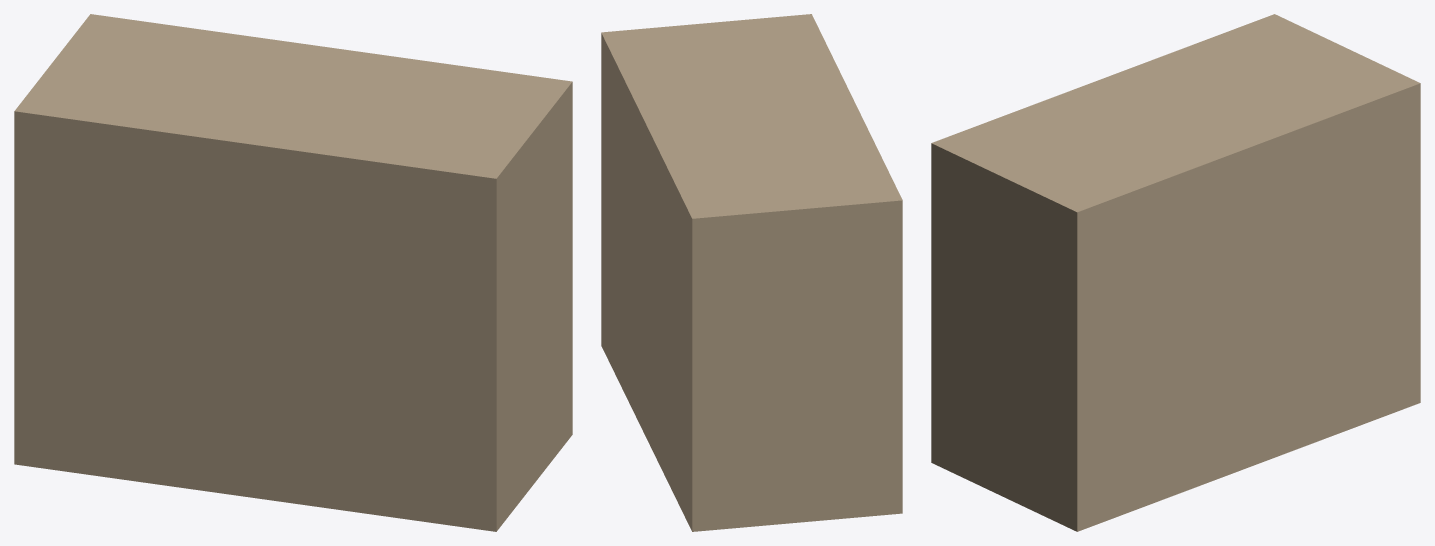
The model's file is bld_164605987.dae.
3 views of the same model, side by side, from view 1: azimuth 30°, elevation 25°; view 2: azimuth 150°, elevation 25°; view 3: azimuth 270°, elevation 25° (orthographic). The views are drawn at different scales.
Parts seen in each view (by area): view 1: bld_164605987; view 2: bld_164605987; view 3: bld_164605987.
Boxes of the visible parts, left/top/right/bottom form: bld_164605987: left=14, top=14, right=572, bottom=531; bld_164605987: left=601, top=14, right=902, bottom=531; bld_164605987: left=931, top=14, right=1420, bottom=531.
Bounding box in the file's own units: 10.65 × 11.1 × 8.
